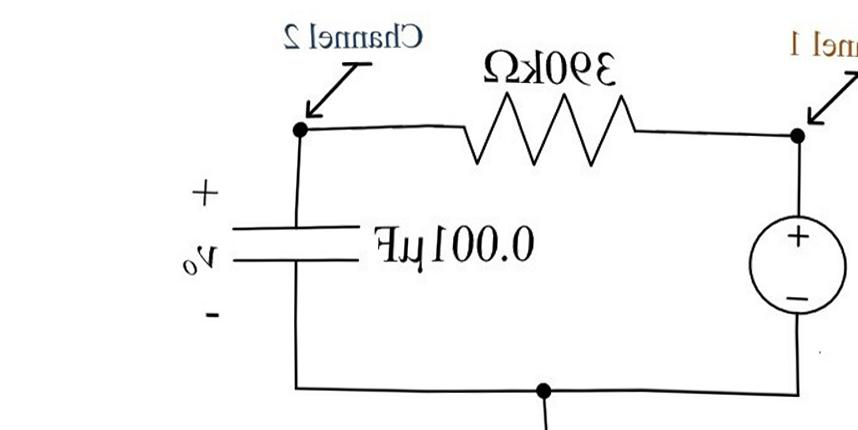Battery: (720, 199, 857, 329)
